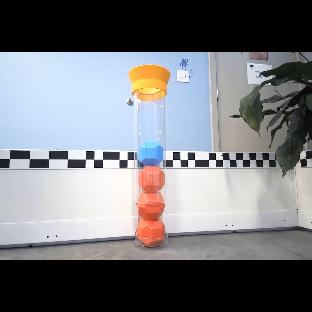V5_BLUE: (138, 141, 164, 167)
V5_RED: (137, 219, 165, 247), (138, 192, 165, 219), (137, 166, 163, 193)
